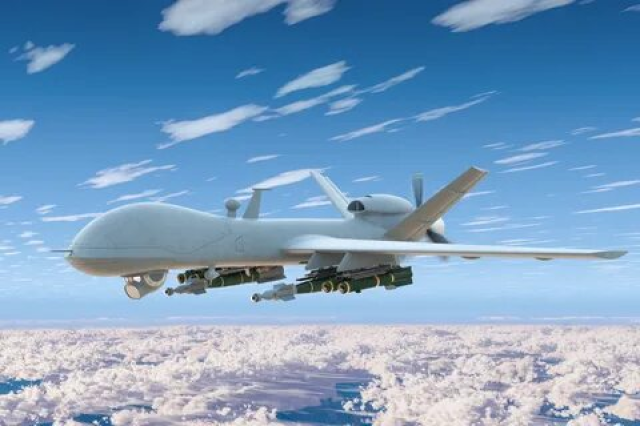military drone: (50, 165, 629, 302)
